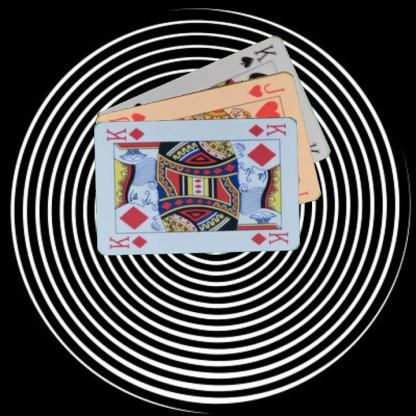Jh: (246, 80, 286, 99)
Kd: (107, 232, 148, 250), (245, 121, 288, 138)
Ks: (238, 41, 278, 69)
